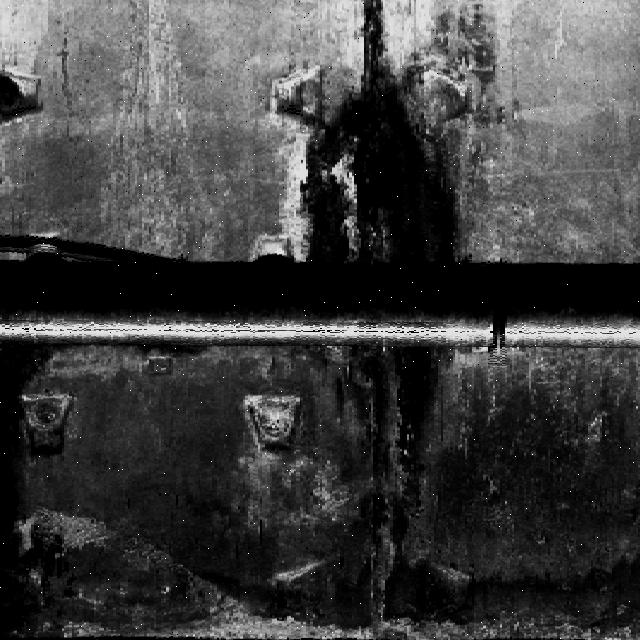leakage: (271, 1, 489, 261), (321, 345, 449, 562), (1, 334, 75, 638)
